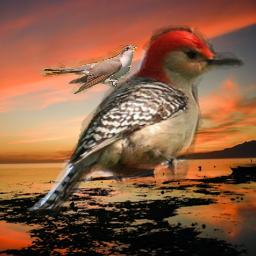Cuckoo: (41, 45, 137, 94)
Woodpecker: (27, 24, 249, 217)
